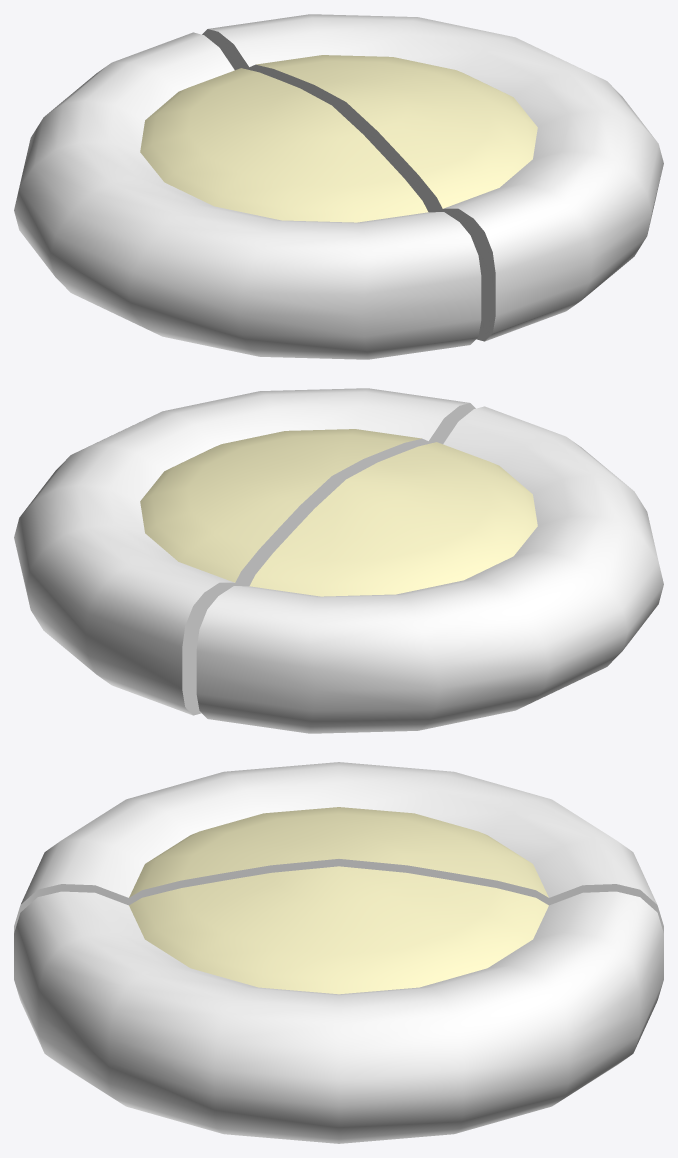
Rendered from Cheesecake_half_01.fbx.
3 renders of one model, top to bottom at view 1: azimuth 30°, elevation 25°; view 2: azimuth 150°, elevation 25°; view 3: azimuth 270°, elevation 25°, orthographic. The views are drawn at different scales.
Visible parts, largest first — view 1: Cheesecake_half_02, Cheesecake_half_01; view 2: Cheesecake_half_02, Cheesecake_half_01; view 3: Cheesecake_half_01, Cheesecake_half_02.
Part boxes in pixels (box(x1,y1,x2,y2)): Cheesecake_half_02: box(14, 32, 481, 359); Cheesecake_half_01: box(202, 14, 663, 341); Cheesecake_half_02: box(196, 406, 663, 733); Cheesecake_half_01: box(14, 388, 475, 715); Cheesecake_half_01: box(14, 866, 663, 1143); Cheesecake_half_02: box(14, 762, 663, 932).
Bounding box in the file's own units: 163 × 38.53 × 146.
